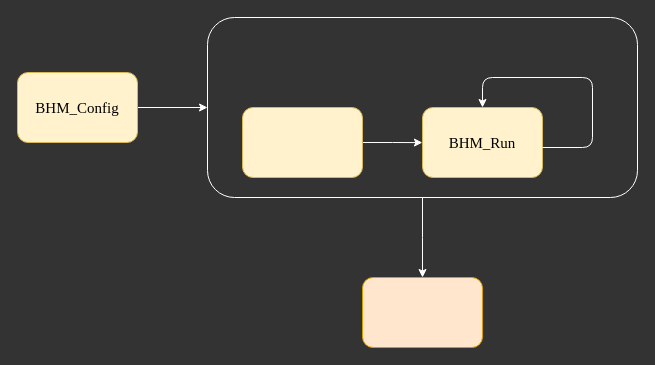
The diagram is 655 pixels wide and 365 high, and some of its shapes have lost their labels. The shapes that lost their labels are listed below. From the top down, each one's centre as x and y in pixels, then its label:
At point 302,142: "BHM_Init".
At point 422,312: "BHM_Stint".
